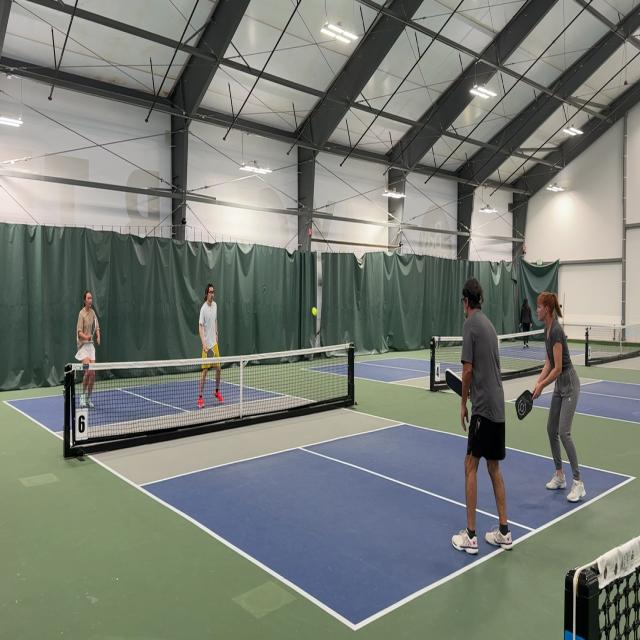ball: (311, 306, 318, 317)
